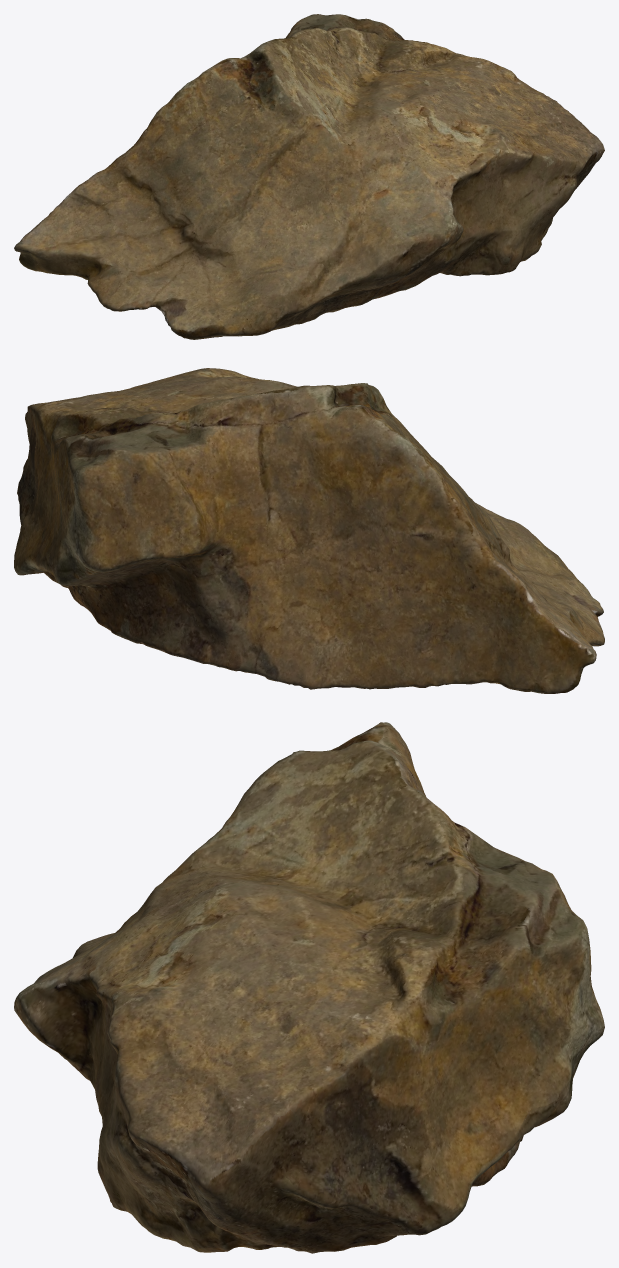
File: baked_mesh.obj
The picture shows the model from 3 angles, top to bottom: view 1: azimuth 30°, elevation 25°; view 2: azimuth 150°, elevation 25°; view 3: azimuth 270°, elevation 25°; orthographic projection. The views are drawn at different scales.
Visible parts, largest first — view 1: g0; view 2: g0; view 3: g0.
Boxes of the visible parts, x1,y1,x2,y2 form: g0: [14, 14, 604, 339]; g0: [14, 368, 604, 693]; g0: [14, 722, 604, 1253].
Bounding box in the file's own units: 0.2211 × 0.0848 × 0.1341.
Materials: 1 (1 with a texture image).
